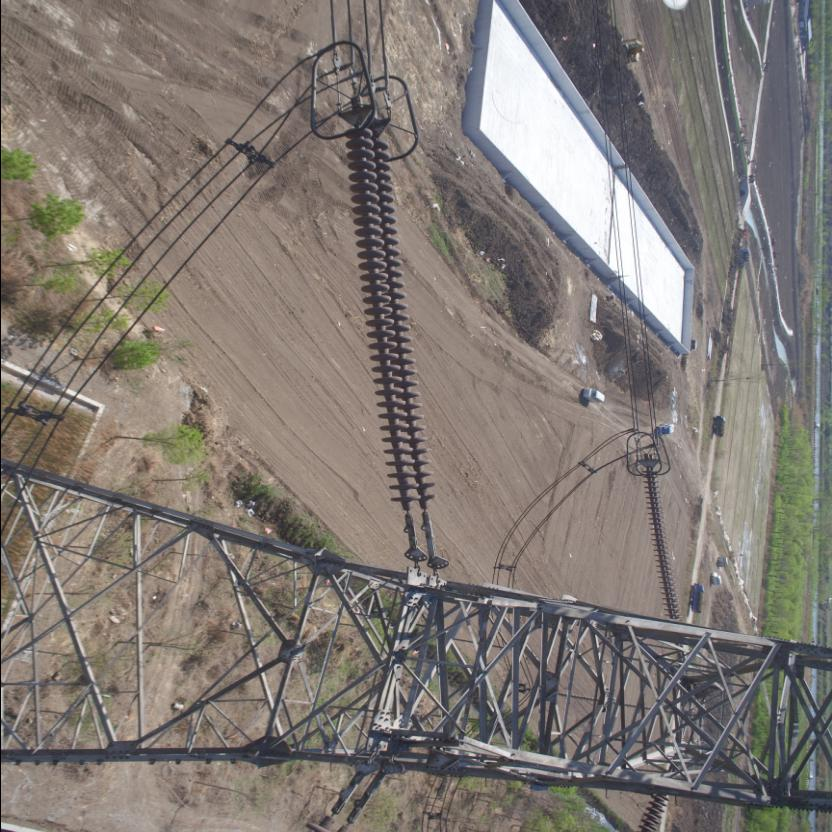insulator: (340, 120, 438, 534), (641, 460, 683, 626)
